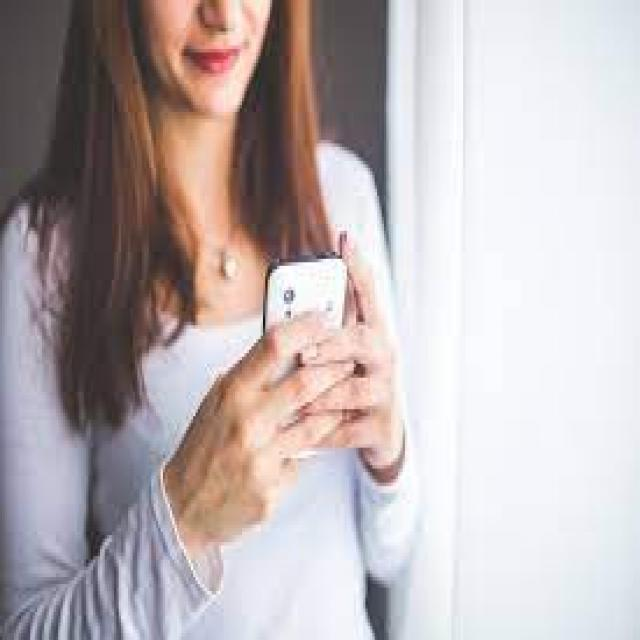Phone: (262, 256, 349, 464)
